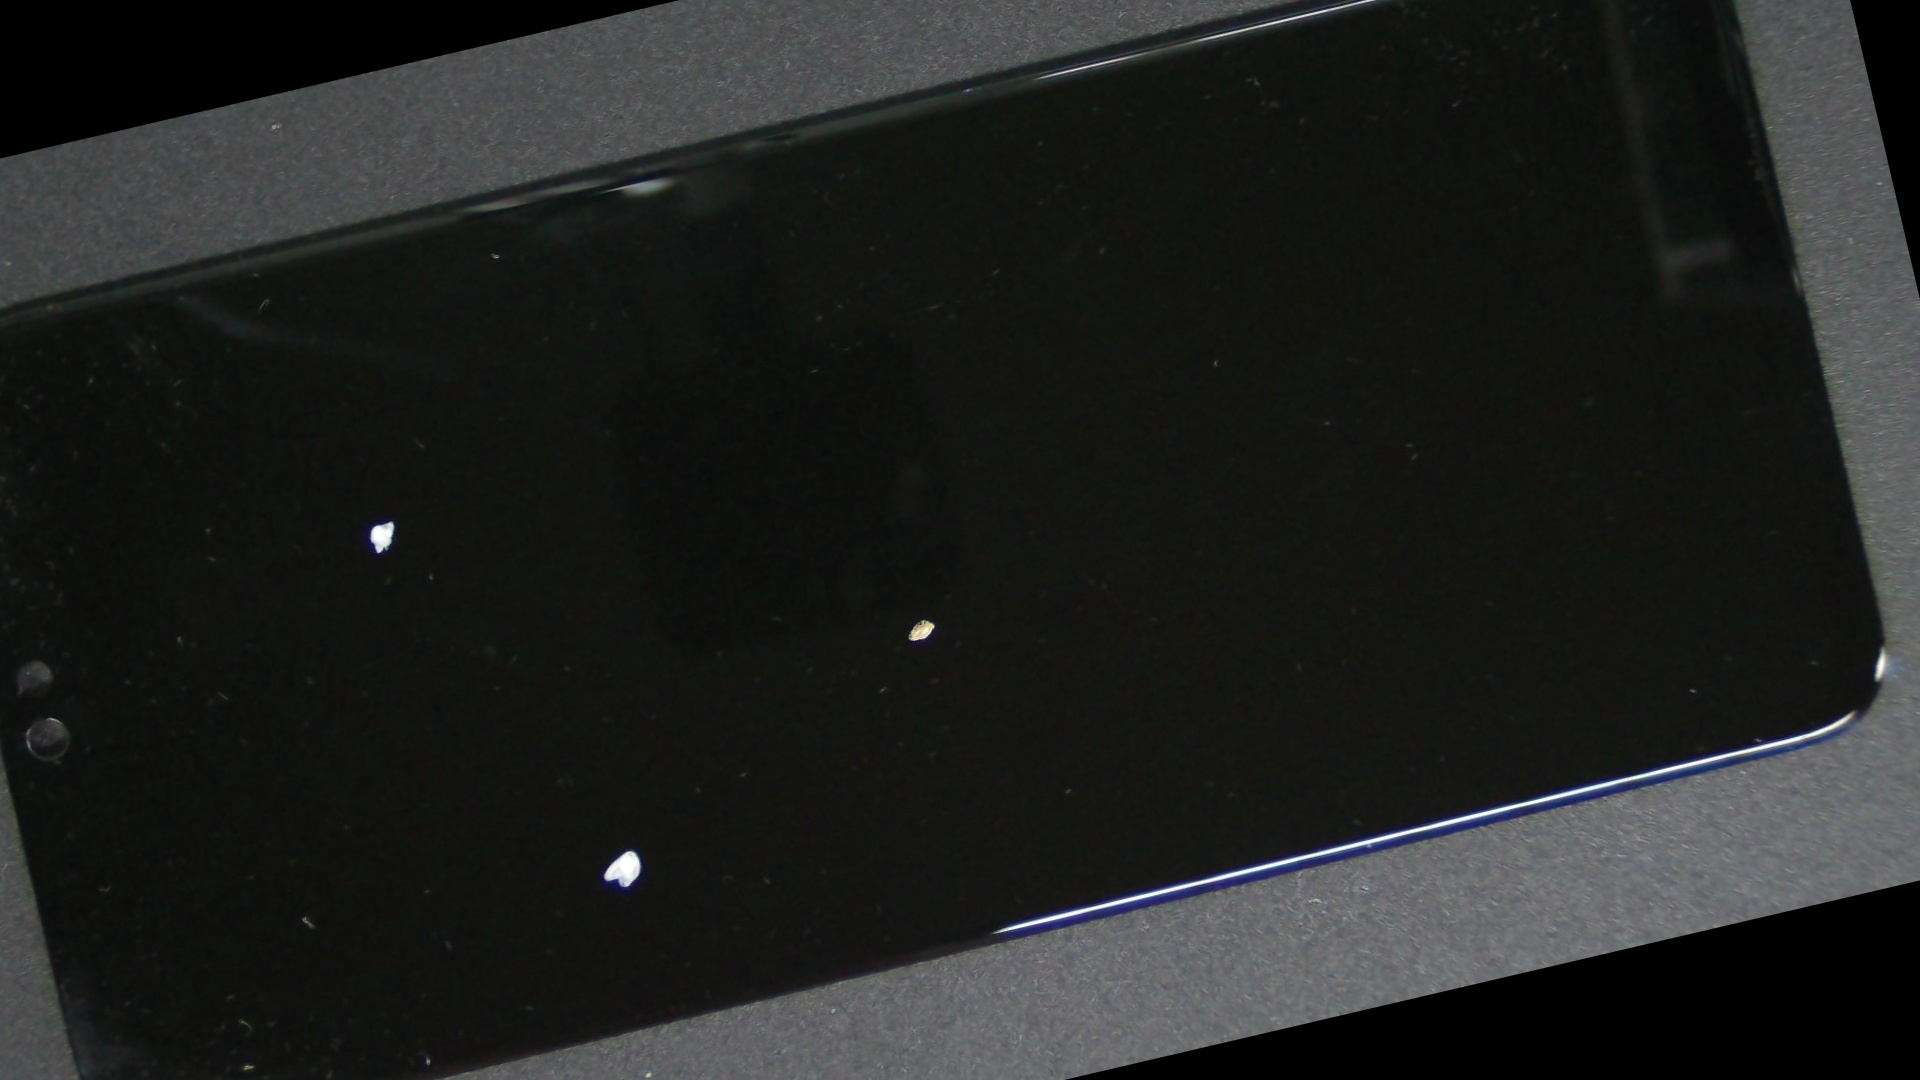oil: (338, 181, 1499, 1058), (191, 372, 1042, 1080), (65, 249, 680, 799)
